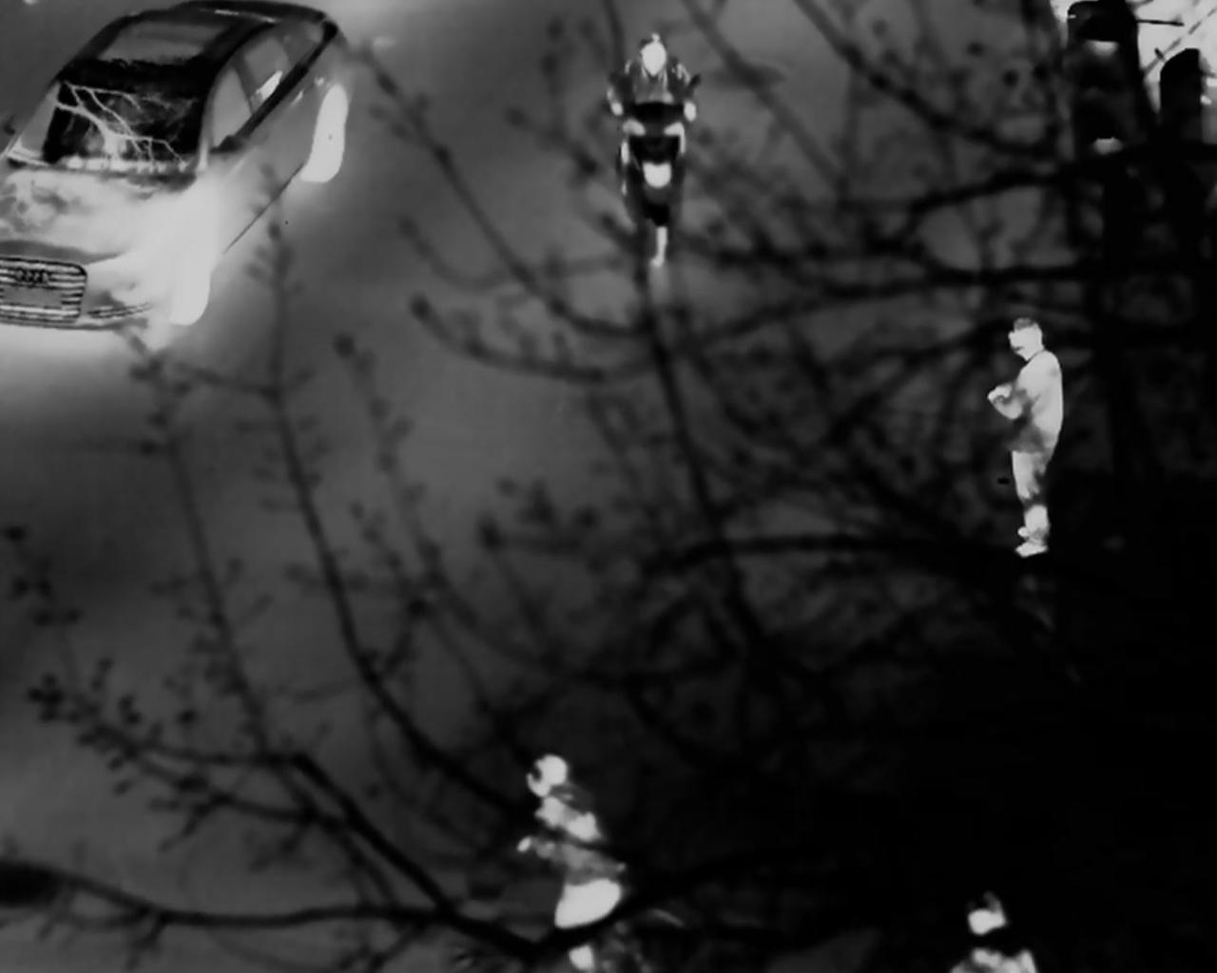person: (603, 39, 708, 264), (521, 759, 621, 936), (990, 322, 1063, 554), (955, 896, 1040, 973)
